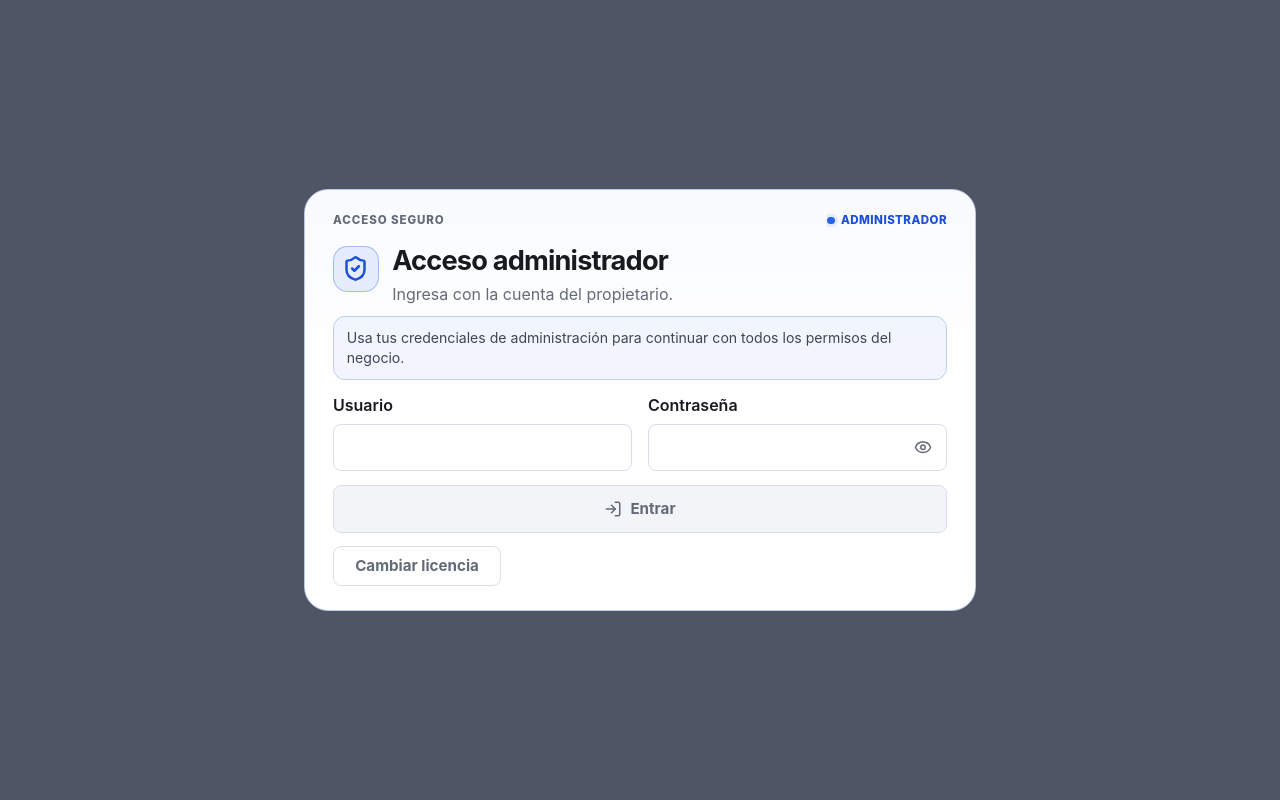
Test: Admin preparation recovery UI › shows safe specific copy for {"code":"ACTOR_HANDOFF_REQUIRED"}
Type "owner" into the field labelled "Usuario". click: (482, 448)
box: [333, 424, 632, 471]
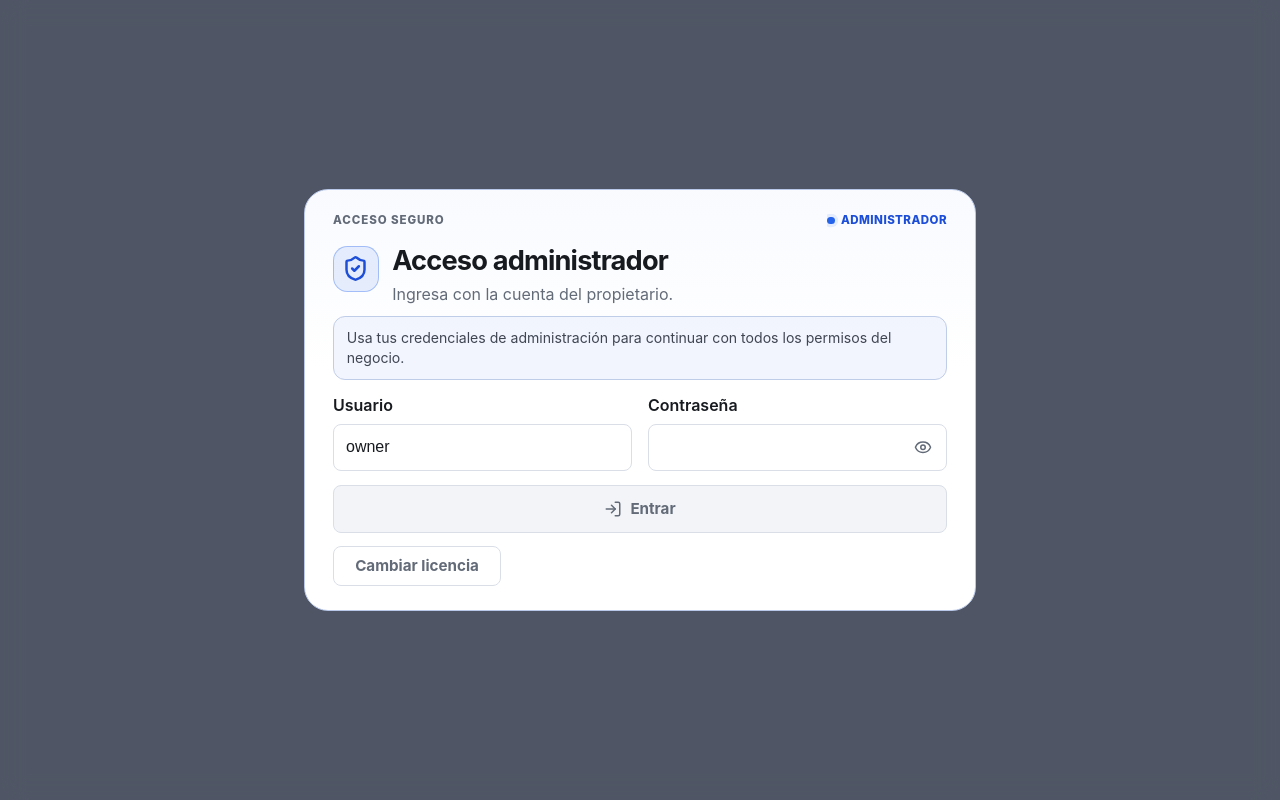
Type "fixture-only" into the password field labelled "Contraseña". click: (798, 448)
box: [648, 424, 947, 471]
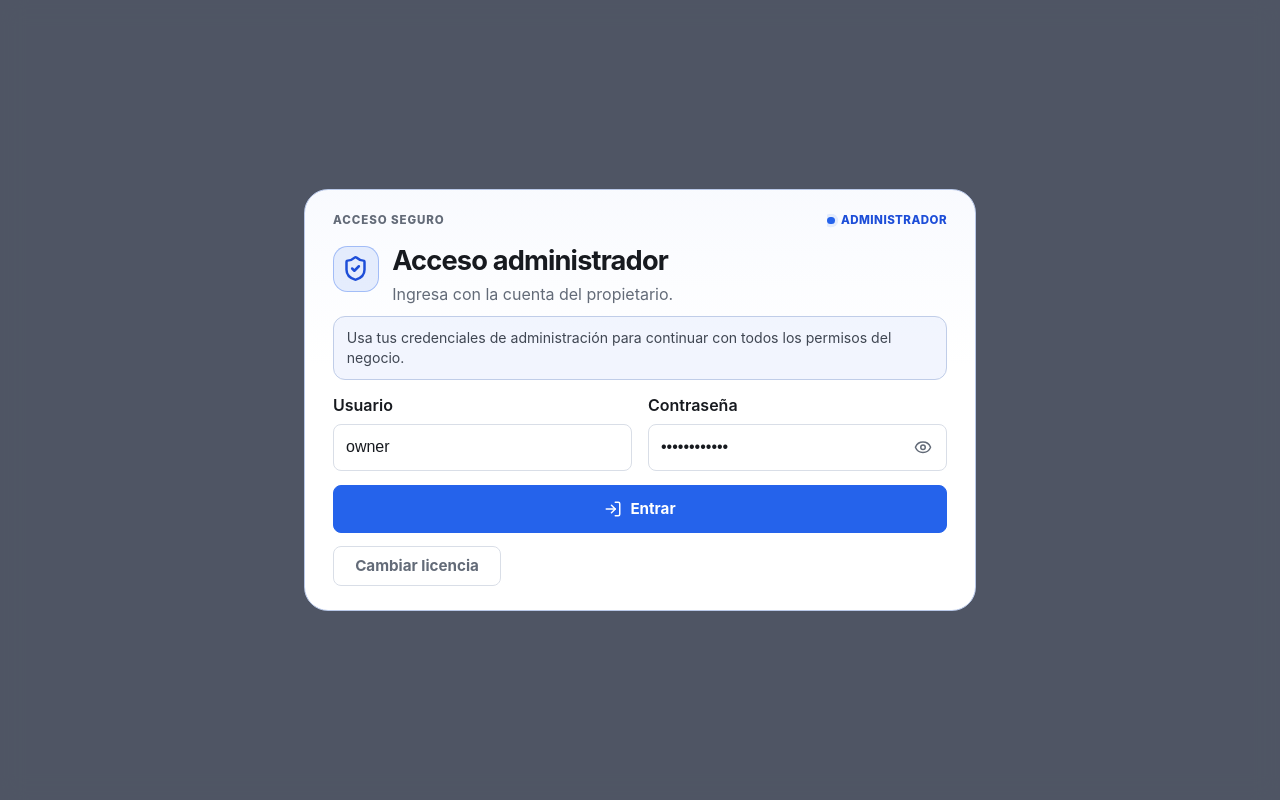
Click the button "Entrar". click: (640, 509)
box: [333, 485, 947, 533]
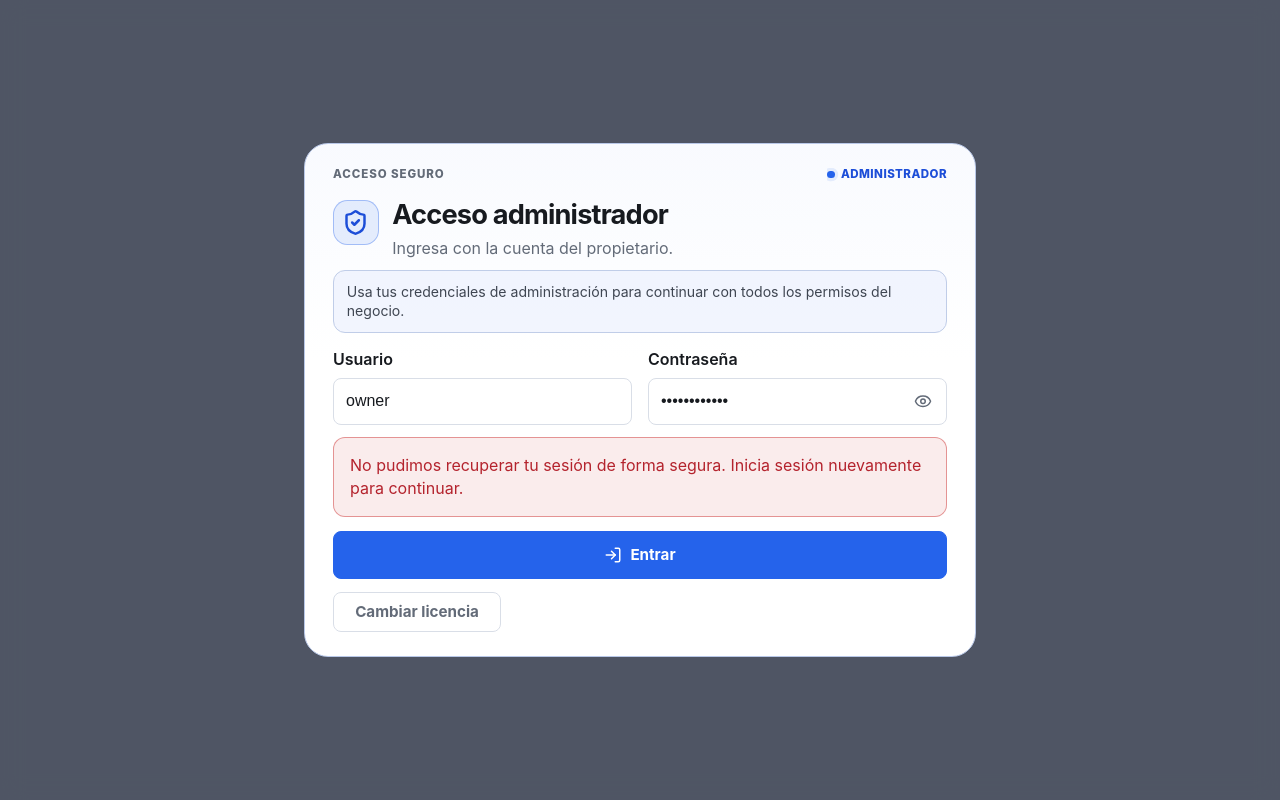
Check: the message shows "No pudimos recuperar tu sesión de forma segura", box [350, 454, 921, 498]
